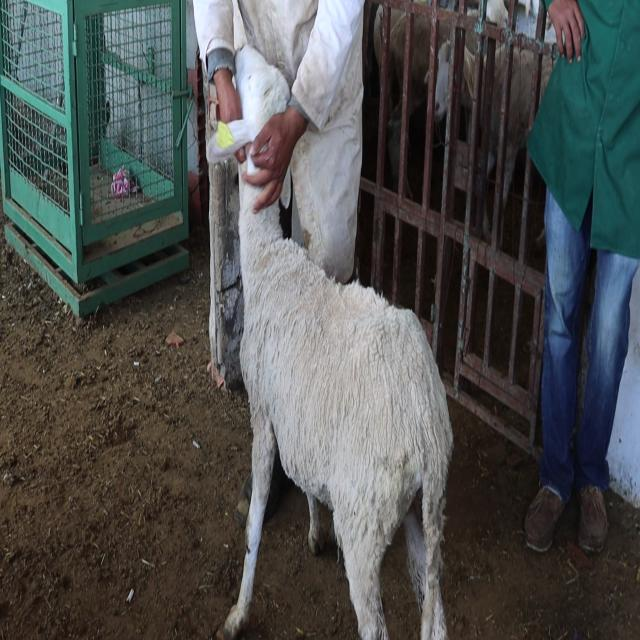Score_1: (220, 178, 453, 639)
